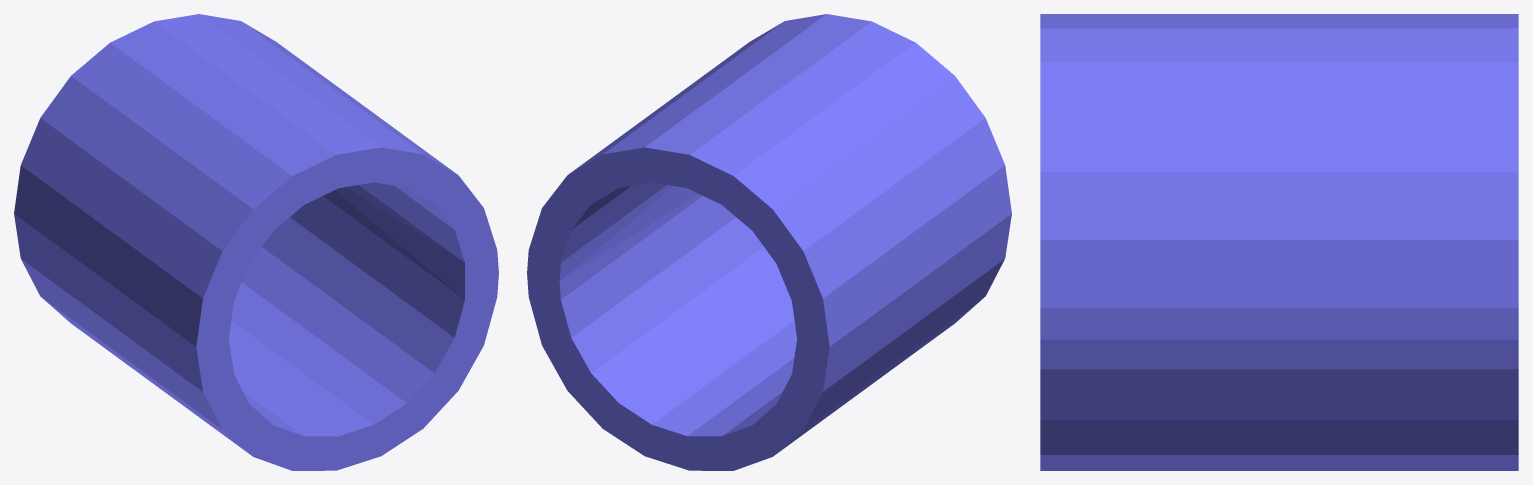
File: roller_bushing.glb
The picture shows the model from 3 angles, left to right: view 1: azimuth 30°, elevation 25°; view 2: azimuth 150°, elevation 25°; view 3: azimuth 270°, elevation 25°; orthographic projection. The views are drawn at different scales.
Visible parts, largest first — view 1: Node1; view 2: Node1; view 3: Node1.
Part boxes in pixels (box(x1,y1,x2,y2)): Node1: box(14, 14, 498, 470); Node1: box(527, 14, 1011, 470); Node1: box(1040, 14, 1518, 470).
Size of the model in its own units: 2.36 by 2.36 by 2.46.
